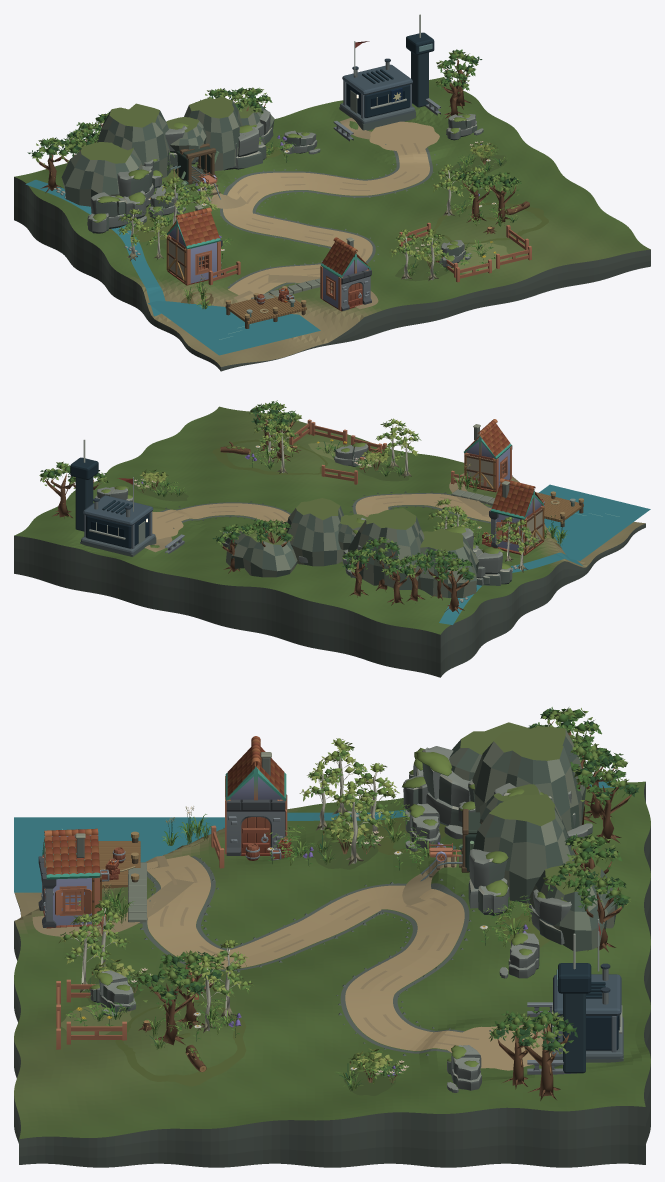
Rendered from viridis.glb.
The picture shows the model from 3 angles, top to bottom: view 1: azimuth 30°, elevation 25°; view 2: azimuth 150°, elevation 25°; view 3: azimuth 270°, elevation 25°; orthographic projection. The views are drawn at different scales.
Parts seen in each view (by area): view 1: Static terrain and architecture • material batches; view 2: Static terrain and architecture • material batches; view 3: Static terrain and architecture • material batches.
Part boxes in pixels (left/top/right/bottom): Static terrain and architecture • material batches: left=14, top=14, right=650, bottom=371; Static terrain and architecture • material batches: left=14, top=400, right=650, bottom=677; Static terrain and architecture • material batches: left=14, top=707, right=650, bottom=1167.
Bounding box in the file's own units: 24.41 × 6.79 × 20.
